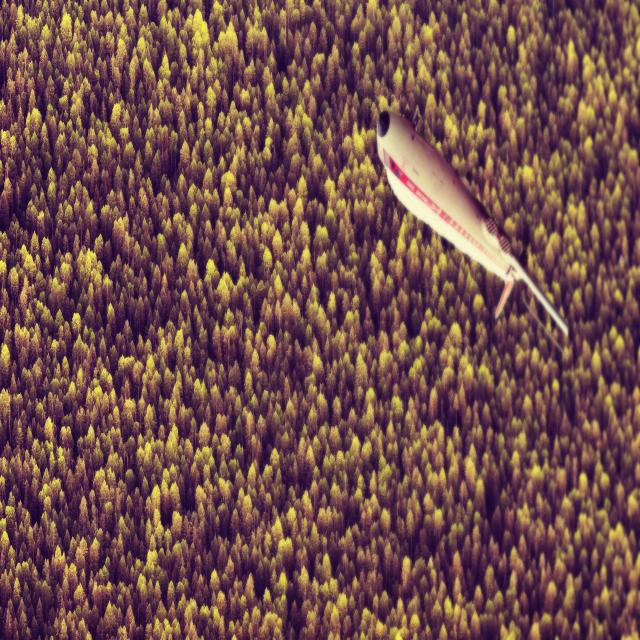airplane: (376, 108, 569, 342)
